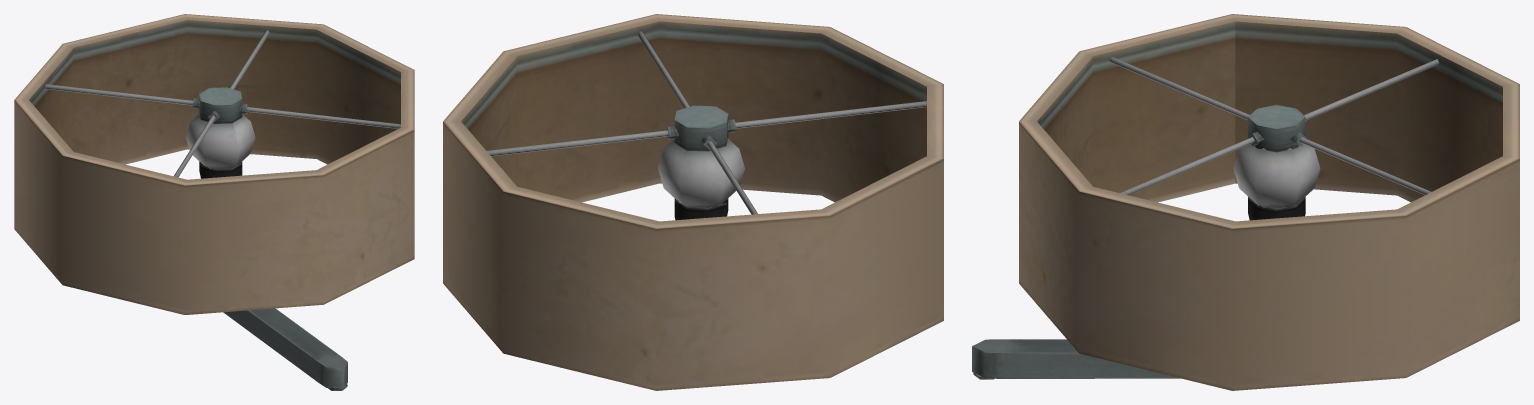
File: paris_bookstore_wall_light_top_off_lod1.glb
3 renders of one model, left to right at view 1: azimuth 30°, elevation 25°; view 2: azimuth 150°, elevation 25°; view 3: azimuth 270°, elevation 25°, orthographic. The views are drawn at different scales.
Visible parts, largest first — view 1: surf0; view 2: surf0; view 3: surf0.
Part boxes in pixels (x1,y1,x2,y2): surf0: (14, 14, 414, 390); surf0: (443, 14, 943, 390); surf0: (972, 14, 1519, 390).
Size of the model in its own units: 20.04 by 11.21 by 21.58.
